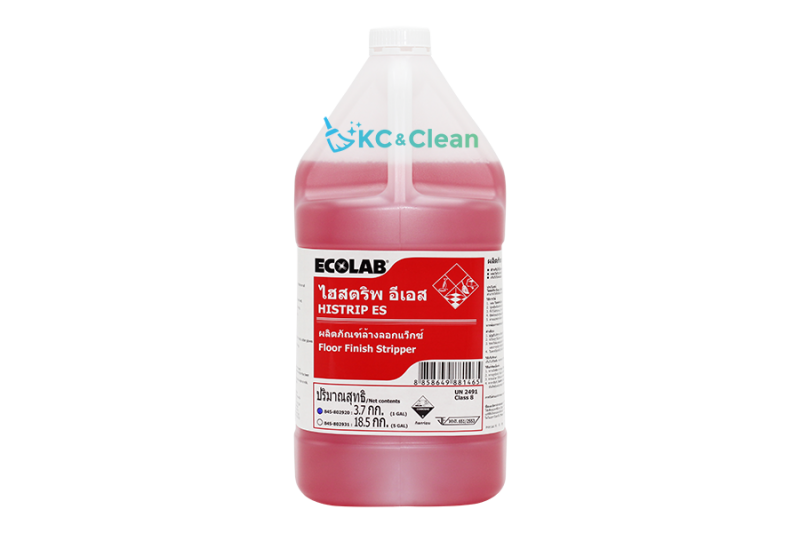Cleaning_solution: (287, 25, 517, 512)
